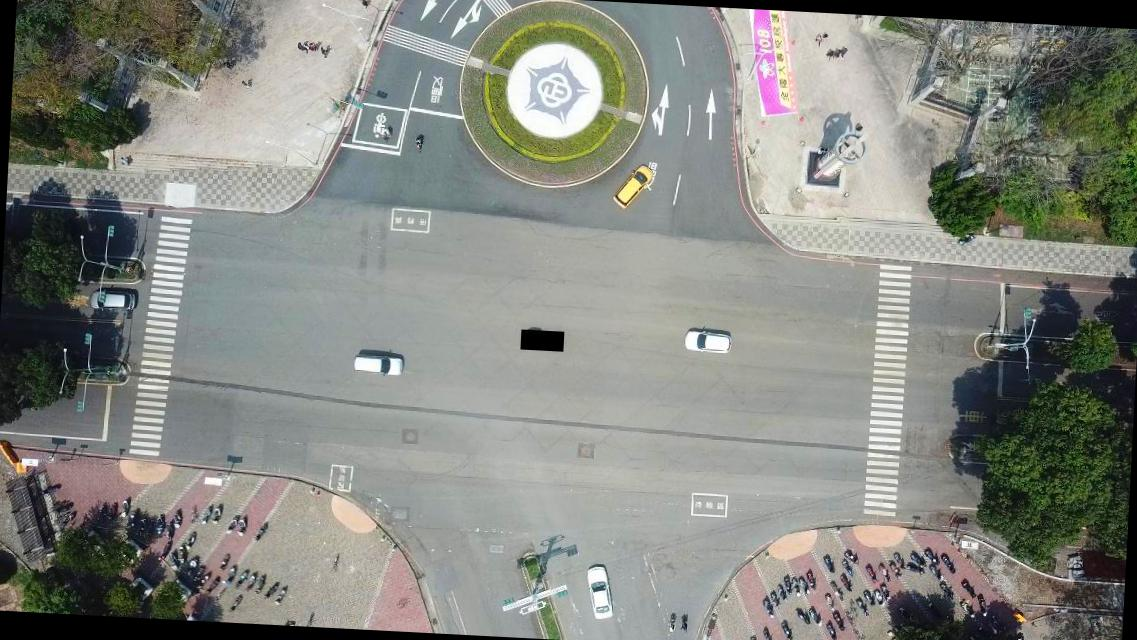vehicle: (611, 163, 654, 211), (582, 564, 616, 620), (351, 349, 404, 378), (682, 327, 732, 356), (87, 288, 137, 312)
